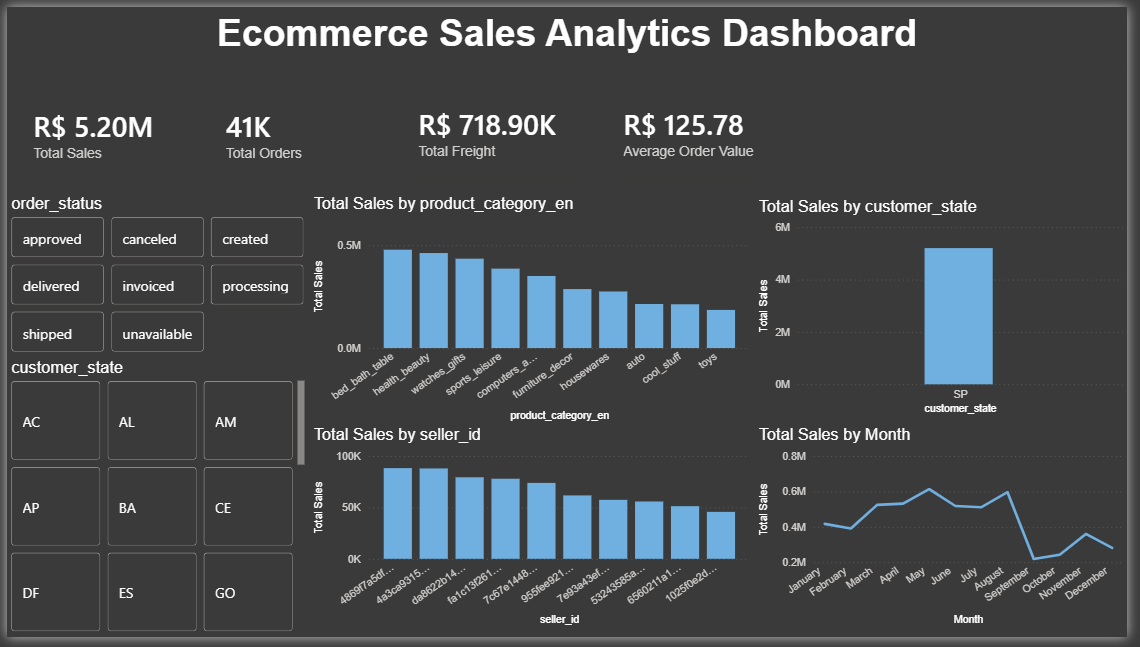

The dashboard page shown, as its layout file describes it:
{"tool":"powerbi","page":{"name":"Page 1","canvas":[1280,720],"ordinal":0},"visuals":[{"type":"cardVisual","fields":{"Data":["warehouse fact_order_items.Total Sales"]},"box":[0,71.4,220,145.7],"z":0},{"type":"cardVisual","fields":{"Data":["warehouse fact_order_items.Average Order Value"]},"box":[674.3,71.4,214.3,142.9],"z":1000},{"type":"cardVisual","fields":{"Data":["warehouse fact_order_items.Total Freight"]},"box":[440,71.4,234.3,142.9],"z":2000},{"type":"cardVisual","fields":{"Data":["warehouse fact_order_items.Total Orders"]},"box":[220,72.9,220,142.9],"z":3000},{"type":"lineChart","fields":{"Category":["warehouse dim_date.date_actual.Variation.Date Hierarchy.Month","warehouse dim_date.date_actual.Variation.Date Hierarchy.Day"],"Y":["warehouse fact_order_items.Total Sales"]},"box":[854.3,478.6,425.7,232.9],"z":4000},{"type":"clusteredColumnChart","fields":{"Category":["warehouse dim_product.product_category_en"],"Y":["warehouse fact_order_items.Total Sales"]},"box":[345.7,214.3,508.6,264.3],"z":5000},{"type":"clusteredColumnChart","fields":{"Category":["warehouse dim_customer.customer_state"],"Y":["warehouse fact_order_items.Total Sales"]},"box":[854.3,217.1,425.7,252.9],"z":6000},{"type":"clusteredColumnChart","fields":{"Category":["warehouse dim_seller.seller_id"],"Y":["warehouse fact_order_items.Total Sales"]},"box":[345.7,478.6,508.6,232.9],"z":7000},{"type":"advancedSlicerVisual","fields":{"Values":["warehouse dim_customer.customer_state"]},"box":[0,401.4,345.7,318.6],"z":7004},{"type":"advancedSlicerVisual","fields":{"Values":["warehouse dim_order_status.order_status"]},"box":[0,214.3,345.7,187.1],"z":7005},{"type":"textbox","box":[0,0,1280,71.4],"z":7006}]}

Visuals, with their boxes in screenshot pixels (x1, y1, x2, y2), scaled from the page's 1280x720 canvas onto the 1140x647 screenshot:
cardVisual - warehouse fact_order_items.Total Sales: left=0, top=64, right=196, bottom=195
cardVisual - warehouse fact_order_items.Average Order Value: left=601, top=64, right=791, bottom=193
cardVisual - warehouse fact_order_items.Total Freight: left=392, top=64, right=601, bottom=193
cardVisual - warehouse fact_order_items.Total Orders: left=196, top=66, right=392, bottom=194
lineChart - warehouse dim_date.date_actual.Variation.Date Hierarchy.Month x warehouse dim_date.date_actual.Variation.Date Hierarchy.Day: left=761, top=430, right=1139, bottom=639
clusteredColumnChart - warehouse dim_product.product_category_en x warehouse fact_order_items.Total Sales: left=308, top=193, right=761, bottom=430
clusteredColumnChart - warehouse dim_customer.customer_state x warehouse fact_order_items.Total Sales: left=761, top=195, right=1139, bottom=422
clusteredColumnChart - warehouse dim_seller.seller_id x warehouse fact_order_items.Total Sales: left=308, top=430, right=761, bottom=639
advancedSlicerVisual - warehouse dim_customer.customer_state: left=0, top=361, right=308, bottom=646
advancedSlicerVisual - warehouse dim_order_status.order_status: left=0, top=193, right=308, bottom=361
textbox: left=0, top=0, right=1139, bottom=64
